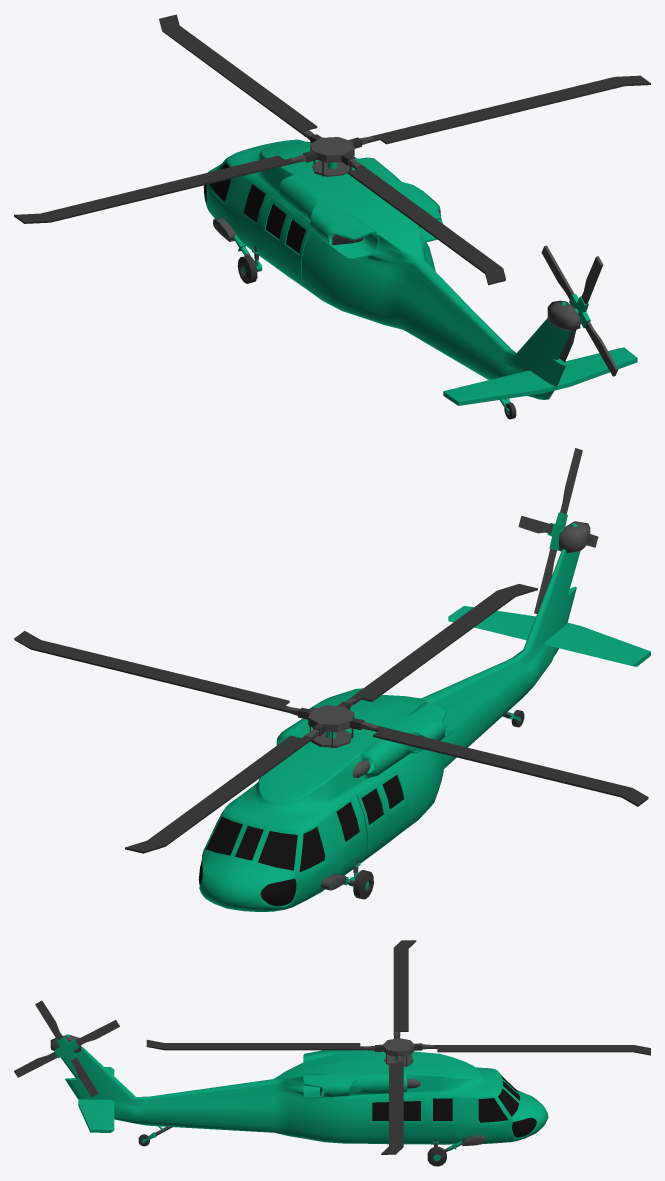
File: helicopter_for_web.fbx
3 renders of one model, top to bottom at view 1: azimuth 30°, elevation 25°; view 2: azimuth 150°, elevation 25°; view 3: azimuth 270°, elevation 25°, orthographic. The views are drawn at different scales.
Visible parts, largest first — view 1: helicopter, Lopast, Lopast_back; view 2: helicopter, Lopast, Lopast_back; view 3: helicopter, Lopast, Lopast_back.
Part boxes in pixels (x1,y1,x2,y2): helicopter: [203, 139, 637, 419]; Lopast: [14, 14, 650, 285]; Lopast_back: [541, 245, 618, 376]; helicopter: [198, 521, 650, 911]; Lopast: [14, 584, 648, 853]; Lopast_back: [518, 448, 598, 613]; helicopter: [50, 1034, 548, 1166]; Lopast: [146, 940, 650, 1154]; Lopast_back: [14, 1000, 119, 1096].
Size of the model in its own units: 521 by 171 by 658.
